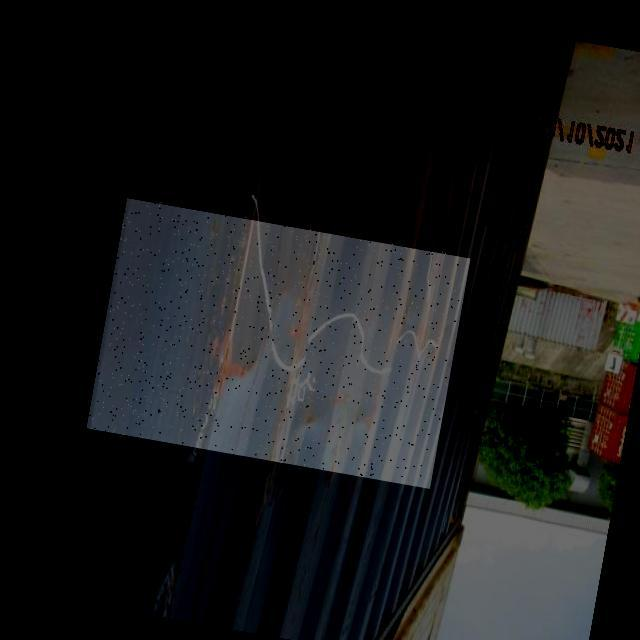Dent: (86, 195, 471, 488)
